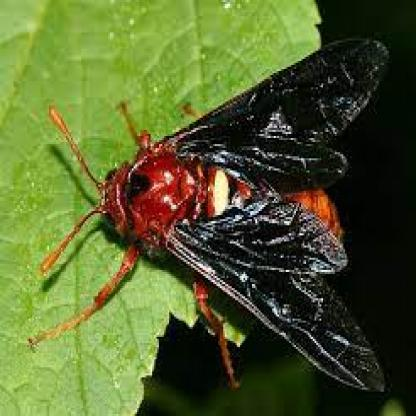sawfly: (34, 33, 392, 391)
